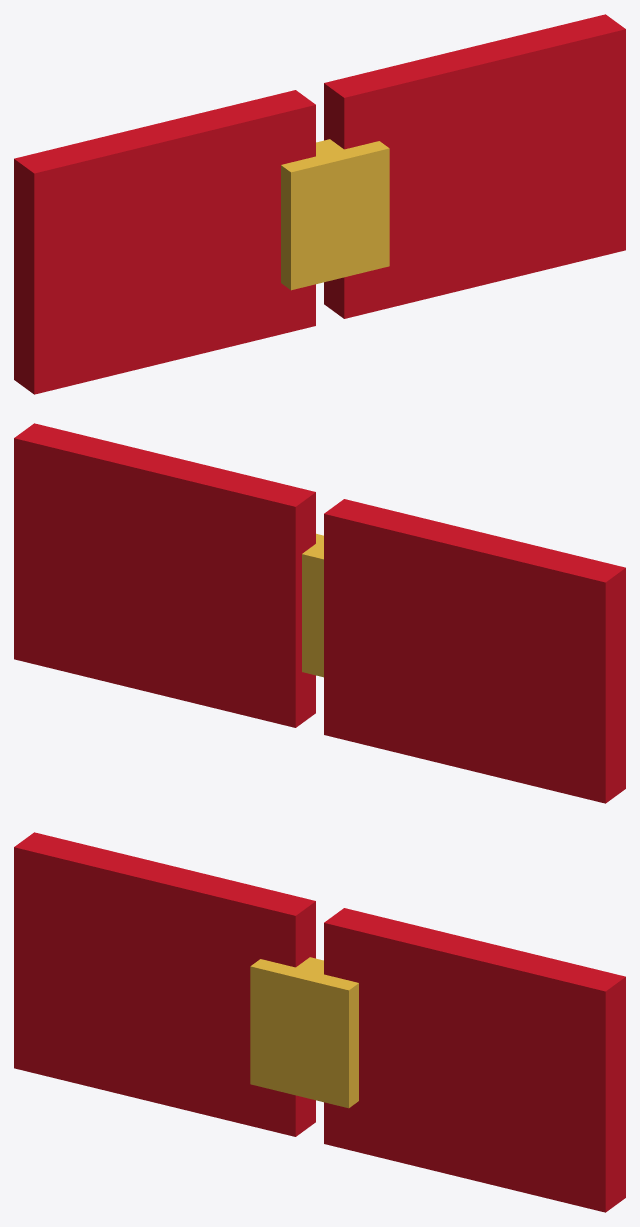
File: bow.glb
3 renders of one model, top to bottom at view 1: azimuth 30°, elevation 25°; view 2: azimuth 150°, elevation 25°; view 3: azimuth 330°, elevation 25°, orthographic.
Visible parts, largest first — view 1: bow_0, bow_1; view 2: bow_0, bow_1; view 3: bow_0, bow_1.
Part boxes in pixels (x1,y1,x2,y2): bow_0: (14, 14, 625, 394); bow_1: (281, 139, 389, 290); bow_0: (14, 423, 625, 803); bow_1: (302, 533, 323, 677); bow_0: (14, 832, 625, 1212); bow_1: (250, 957, 358, 1108).
Bounding box in the file's own units: 0.84 × 0.3 × 0.075.
2 materials, 2 textured.
